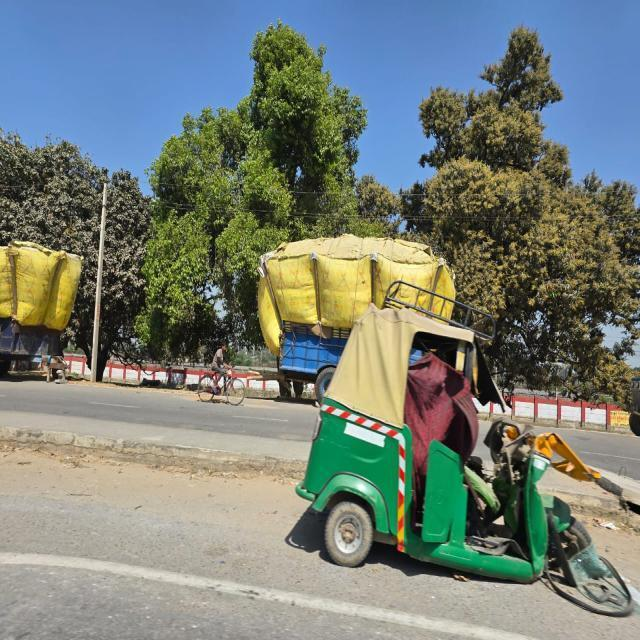covered: (254, 240, 441, 311), (0, 242, 72, 380)
